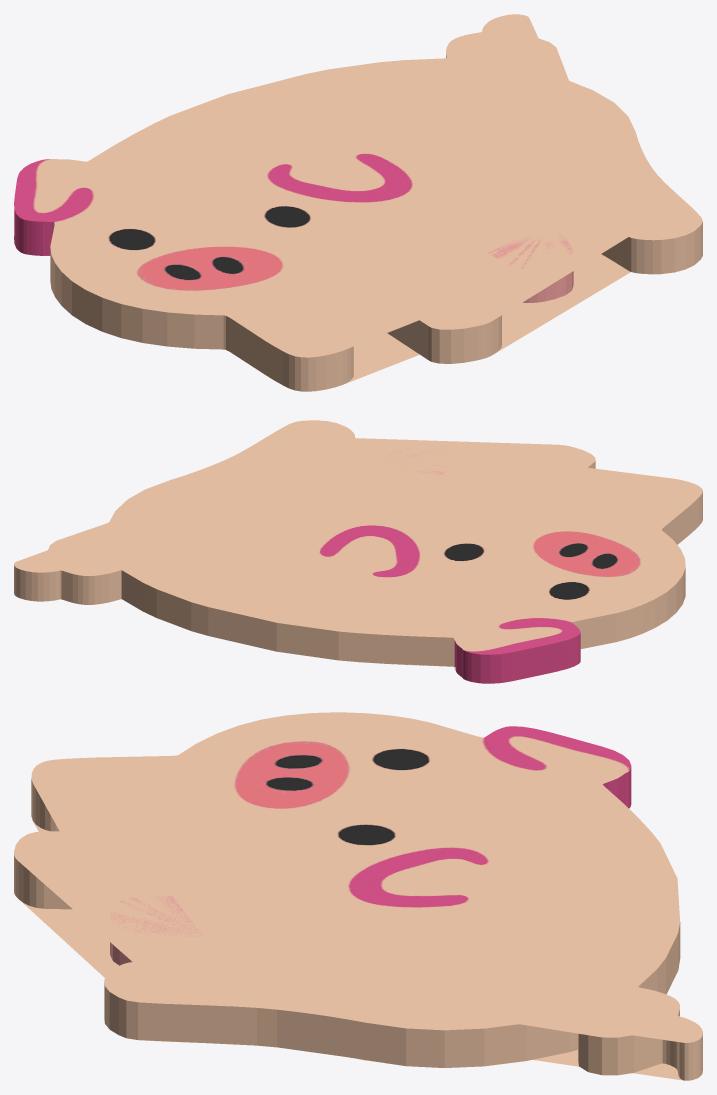
File: PIG.fbx
The picture shows the model from 3 angles, top to bottom: view 1: azimuth 30°, elevation 25°; view 2: azimuth 150°, elevation 25°; view 3: azimuth 270°, elevation 25°; orthographic projection. The views are drawn at different scales.
Parts seen in each view (by area): view 1: 跟踪; view 2: 跟踪; view 3: 跟踪.
Boxes of the visible parts, bbox=[...] form: 跟踪: bbox=[14, 14, 702, 391]; 跟踪: bbox=[14, 420, 702, 683]; 跟踪: bbox=[14, 712, 702, 1080].
Size of the model in its own units: 4.69 by 0.25 by 4.13.
Materials: 1 (1 with a texture image).
